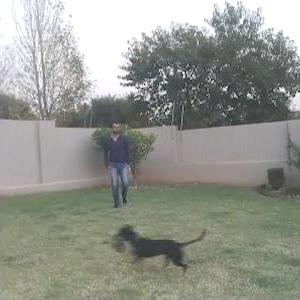follow: (106, 119, 132, 208)
